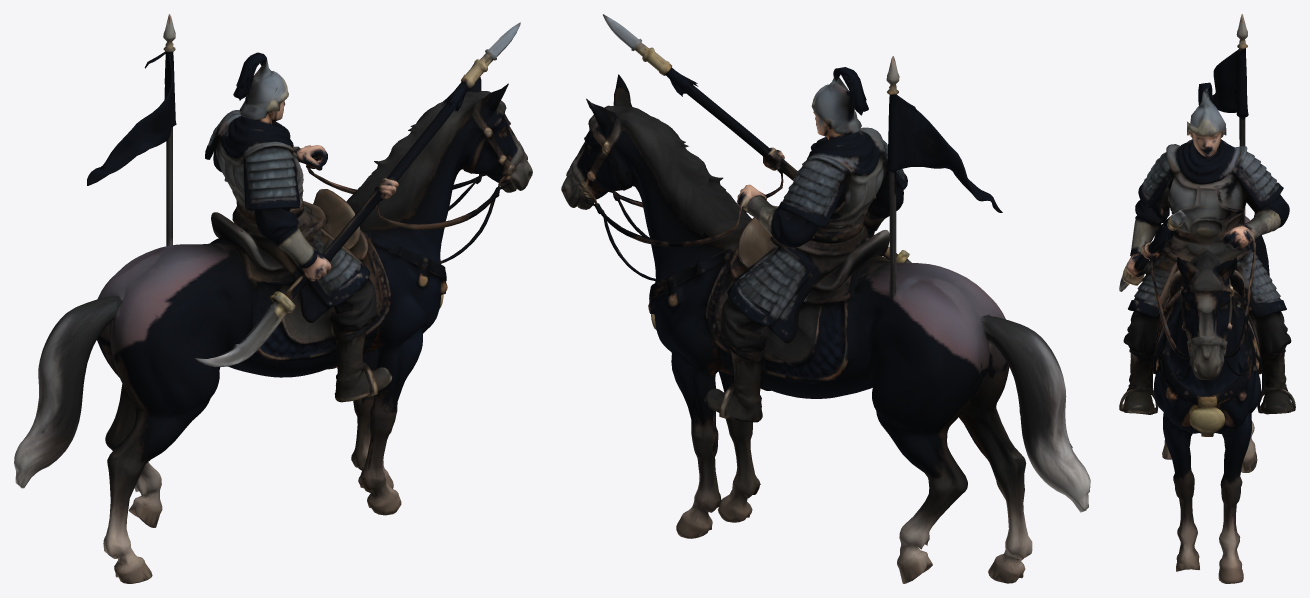
Rendered from horse-black-hy3-v1.glb.
3 views of the same model, side by side, from view 1: azimuth 30°, elevation 25°; view 2: azimuth 150°, elevation 25°; view 3: azimuth 270°, elevation 25° (orthographic). The views are drawn at different scales.
Visible parts, largest first — view 1: node_0; view 2: node_0; view 3: node_0.
Part boxes in pixels (x1=…): node_0: x1=14, y1=14, x2=532, y2=583; node_0: x1=561, y1=14, x2=1090, y2=583; node_0: x1=1119, y1=14, x2=1295, y2=583.
Bounding box in the file's own units: 1.49 × 1.45 × 0.4888.
1 material, 1 textured.
